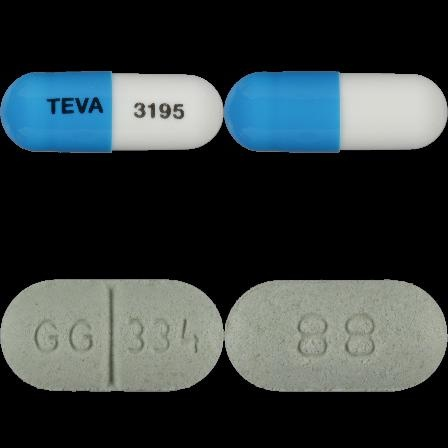63629-1836: (0, 0, 224, 224)
